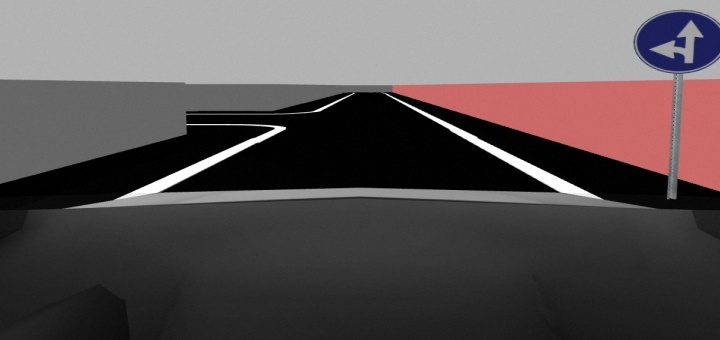ileri_sola: (635, 8, 720, 76)
